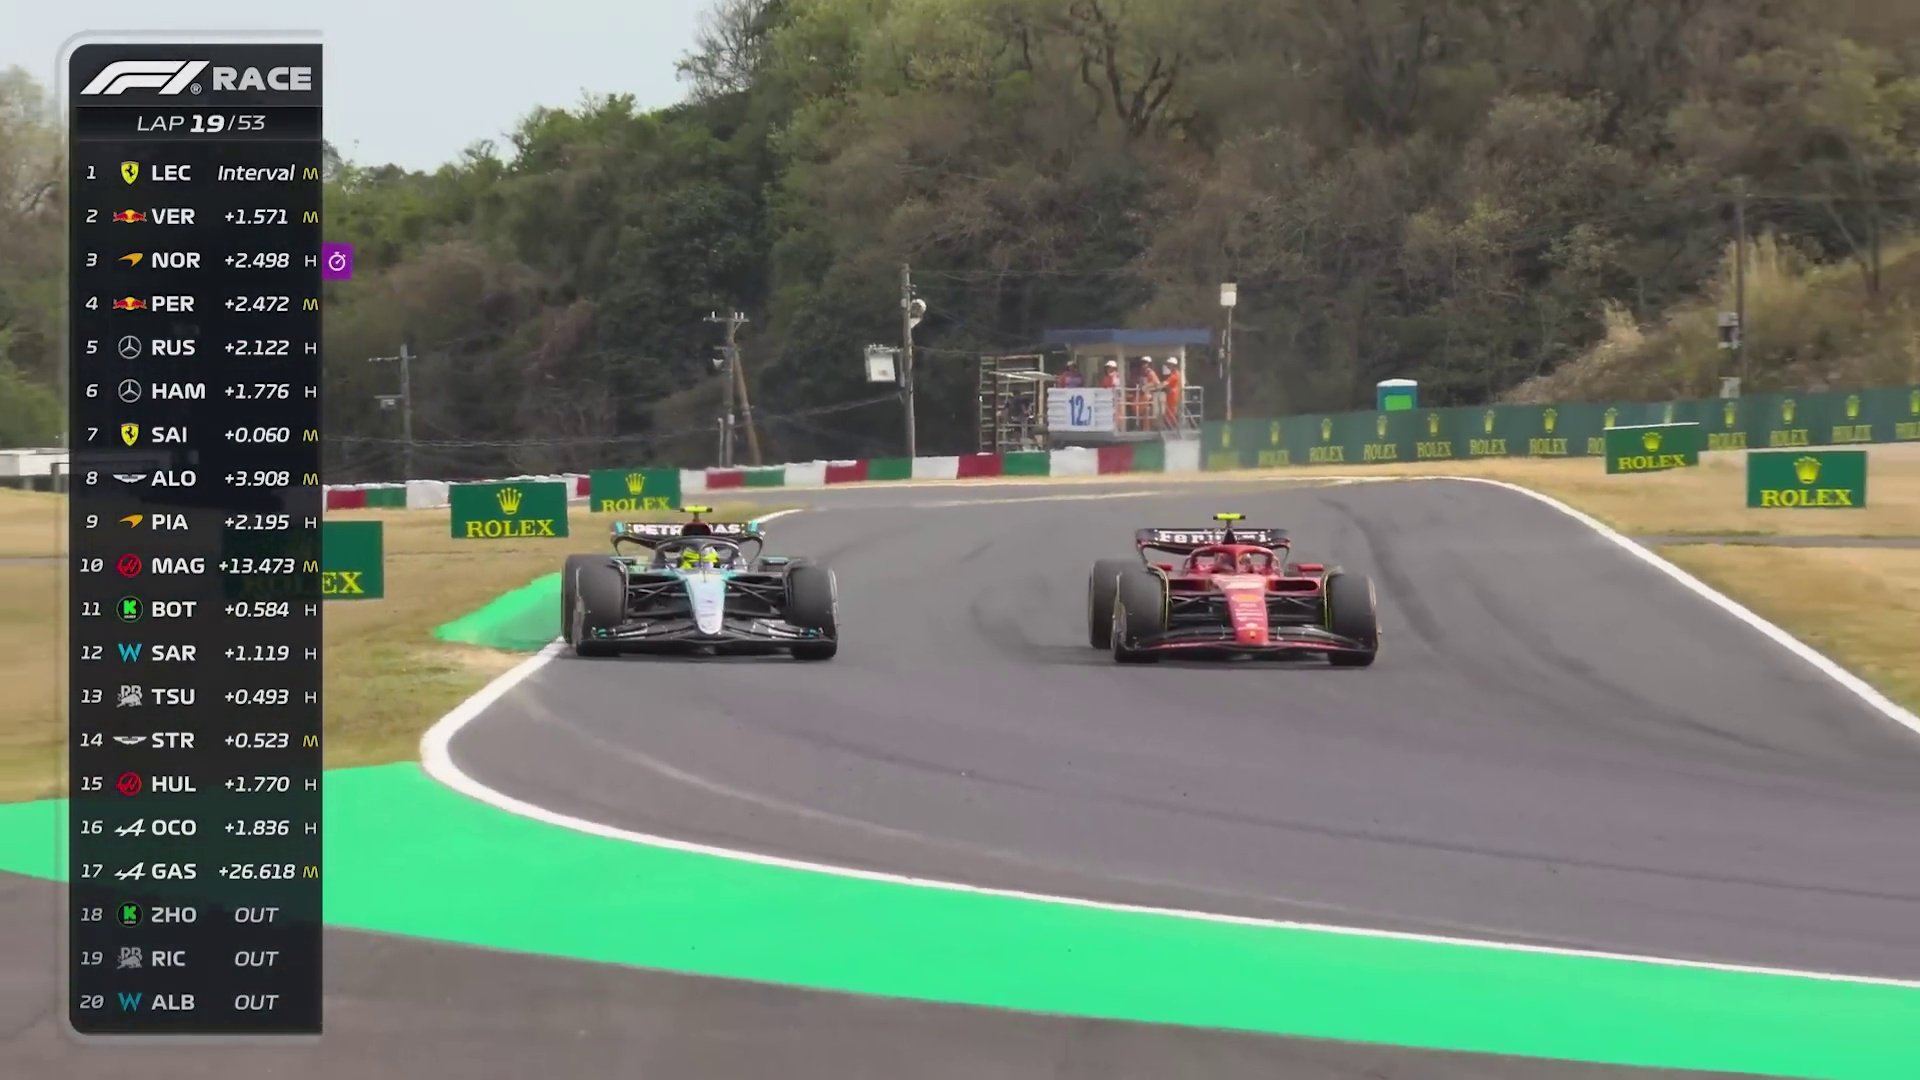Ferrari: (1095, 526, 1381, 669)
Mercedes: (556, 520, 844, 657)
